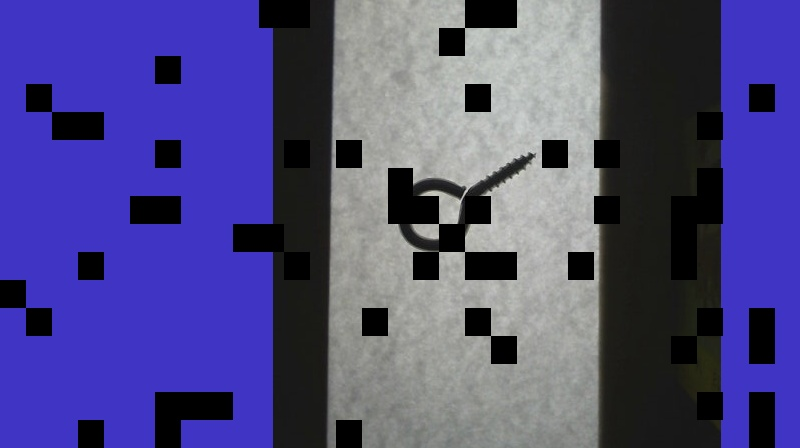O001: (392, 148, 540, 255)
